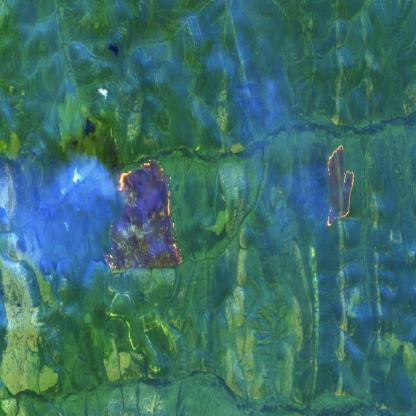fire: (102, 158, 183, 272), (324, 141, 356, 228)
